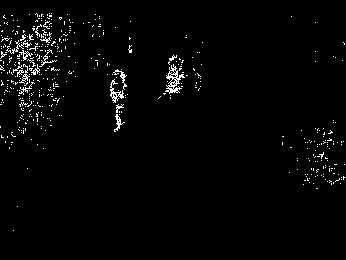person: (111, 68, 129, 132), (191, 49, 206, 93)
